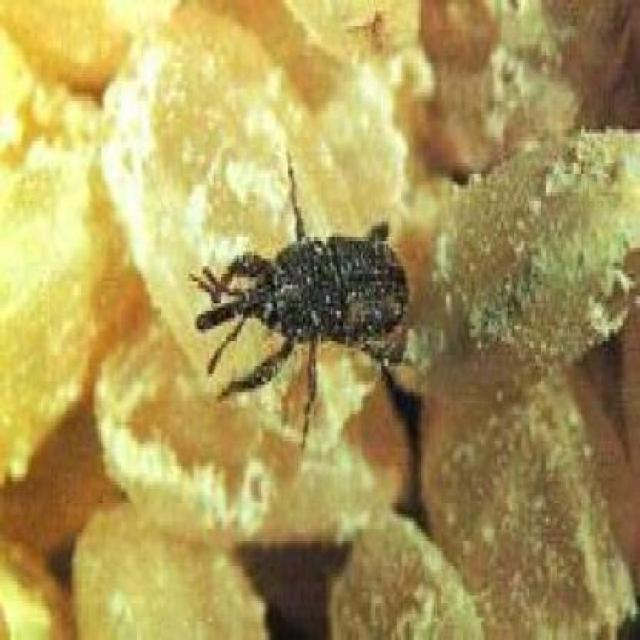rice-bug: (213, 177, 418, 409)
